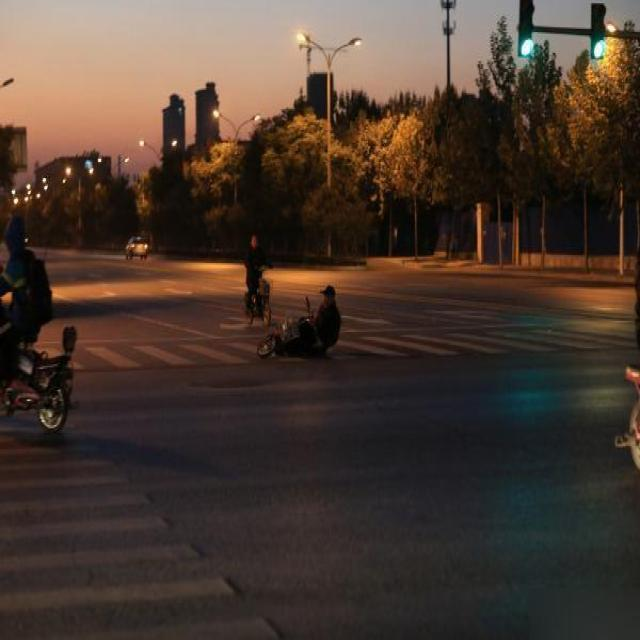fall: (260, 271, 349, 369)
nonfall: (0, 220, 53, 372), (243, 231, 264, 295)
